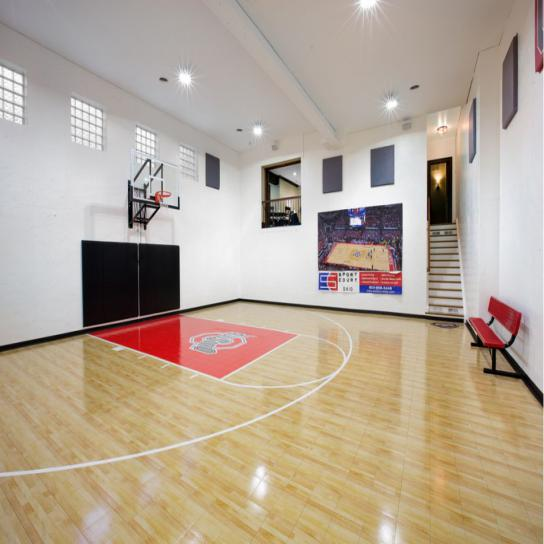basketball-hoop: (155, 189, 171, 215)
